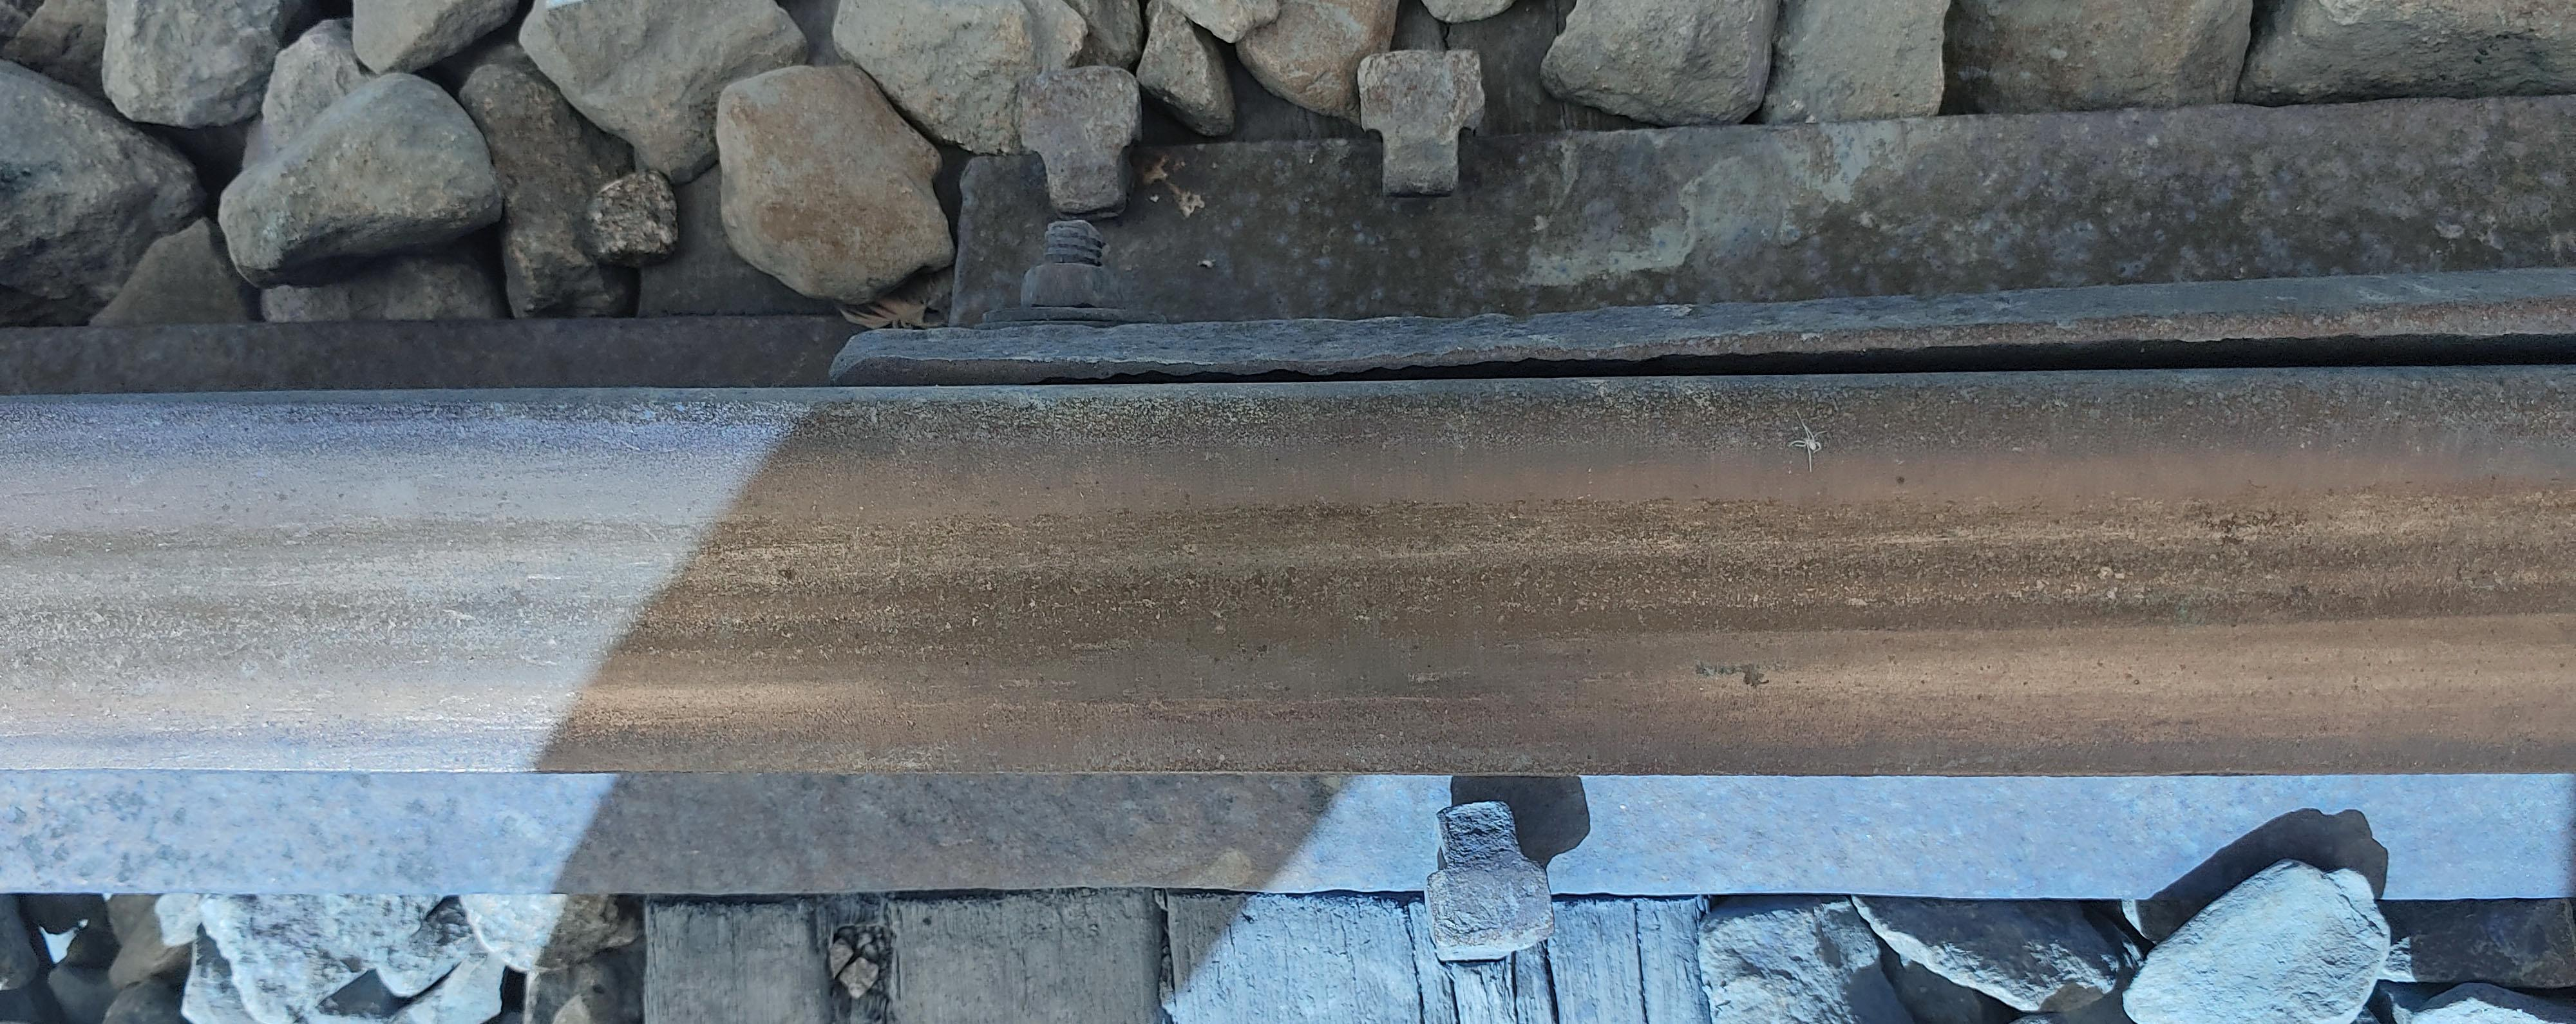error1: (1337, 653, 1686, 1001)
error2: (1408, 274, 2008, 450)
